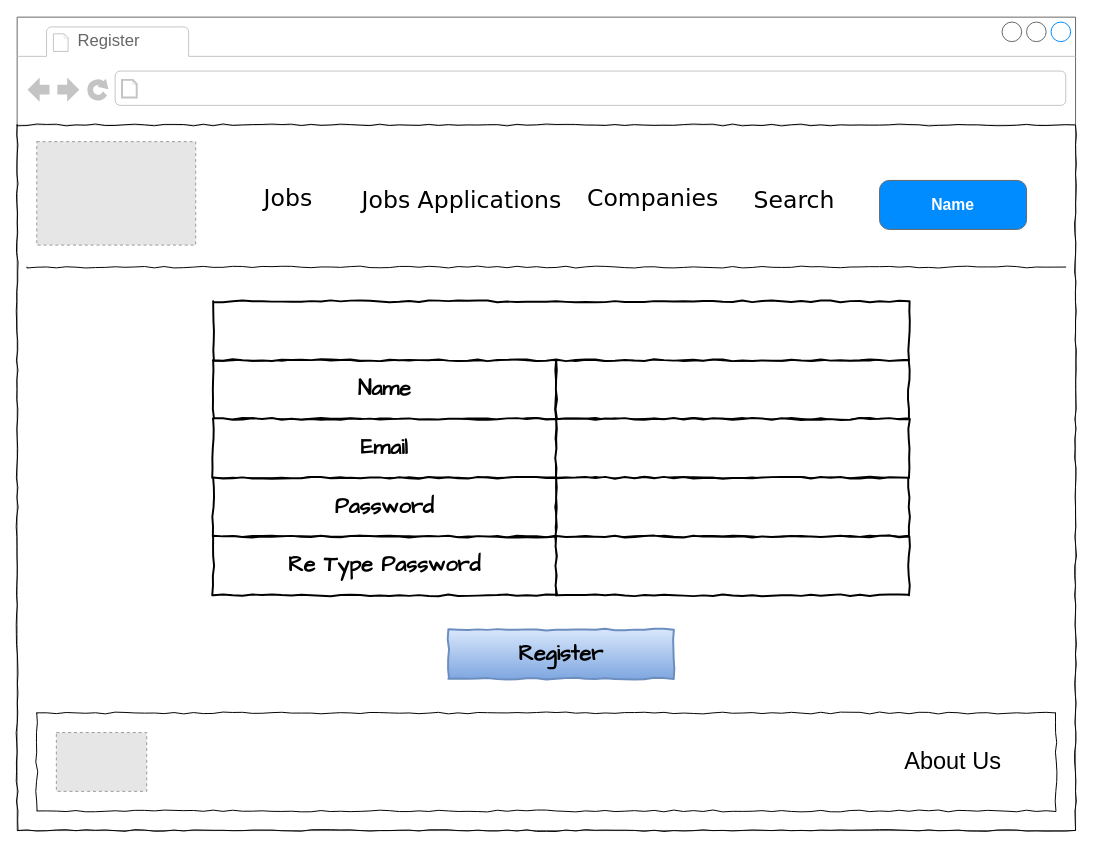
This 1093x848 diagram has some shape labels left out. Grey dashed boxes stand in for pictures. The centre of each missing label's shape, as x and y in pixels:
"https://www.jobi.com" goes at (267,88).
"Resgister" goes at (560,330).
